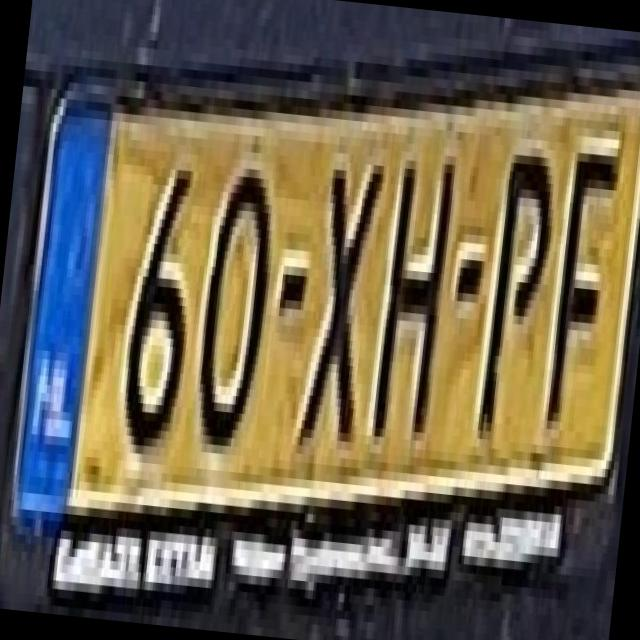0: (182, 140, 286, 440)
6: (105, 132, 212, 440)
F: (532, 117, 630, 425)
H: (361, 116, 467, 442)
P: (467, 119, 567, 436)
X: (292, 134, 388, 442)
